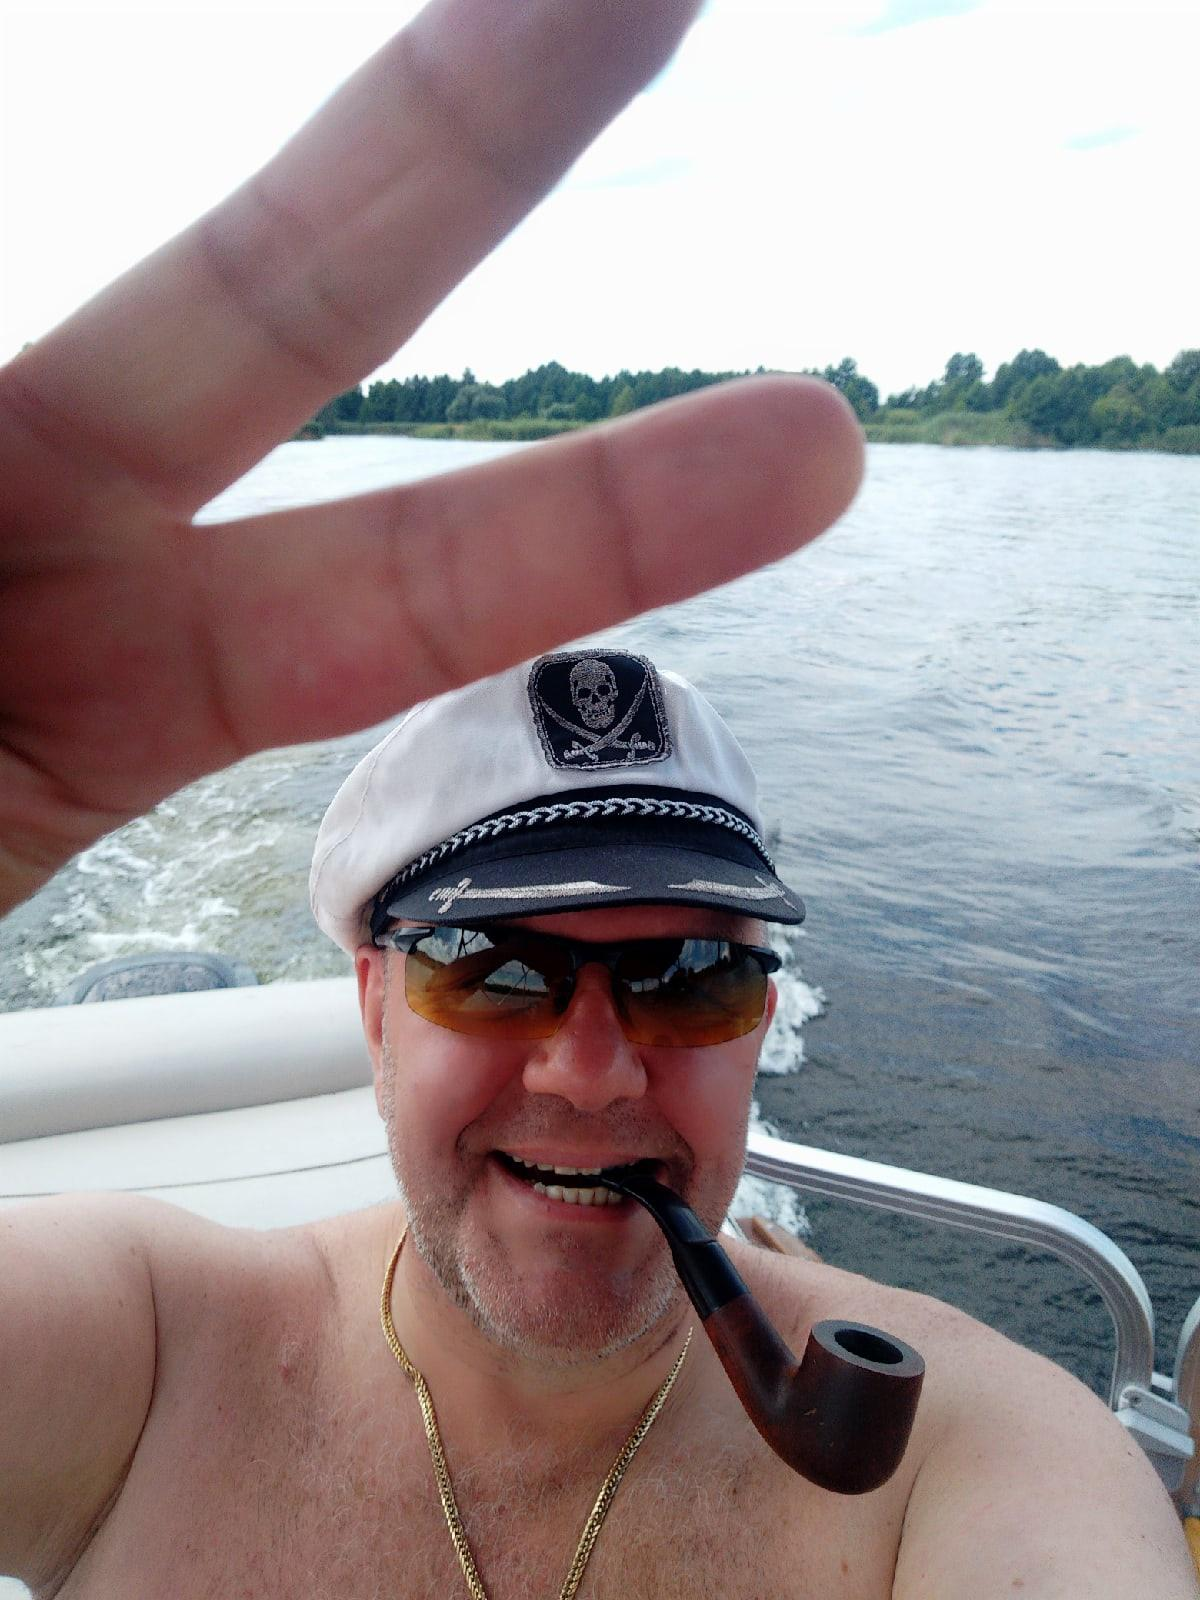trubka: (597, 1172, 924, 1494)
